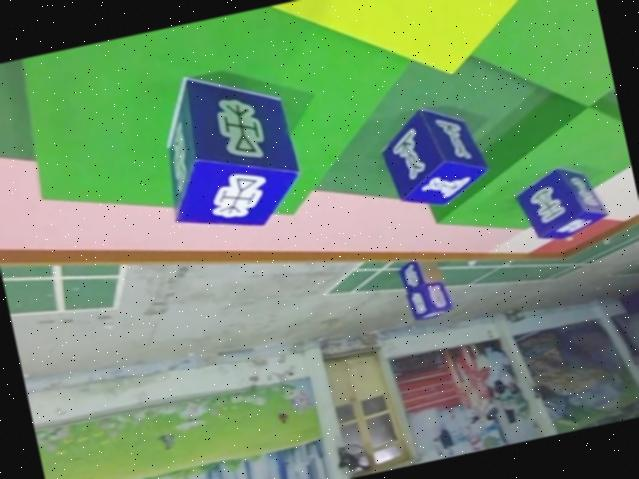R2 Real Blue: (150, 57, 311, 243), (372, 96, 495, 216), (511, 157, 612, 246)
